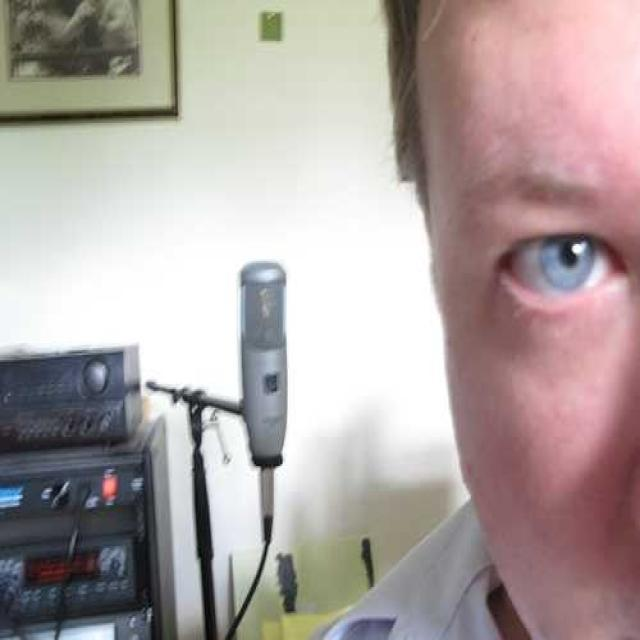microphone: (230, 254, 304, 488)
